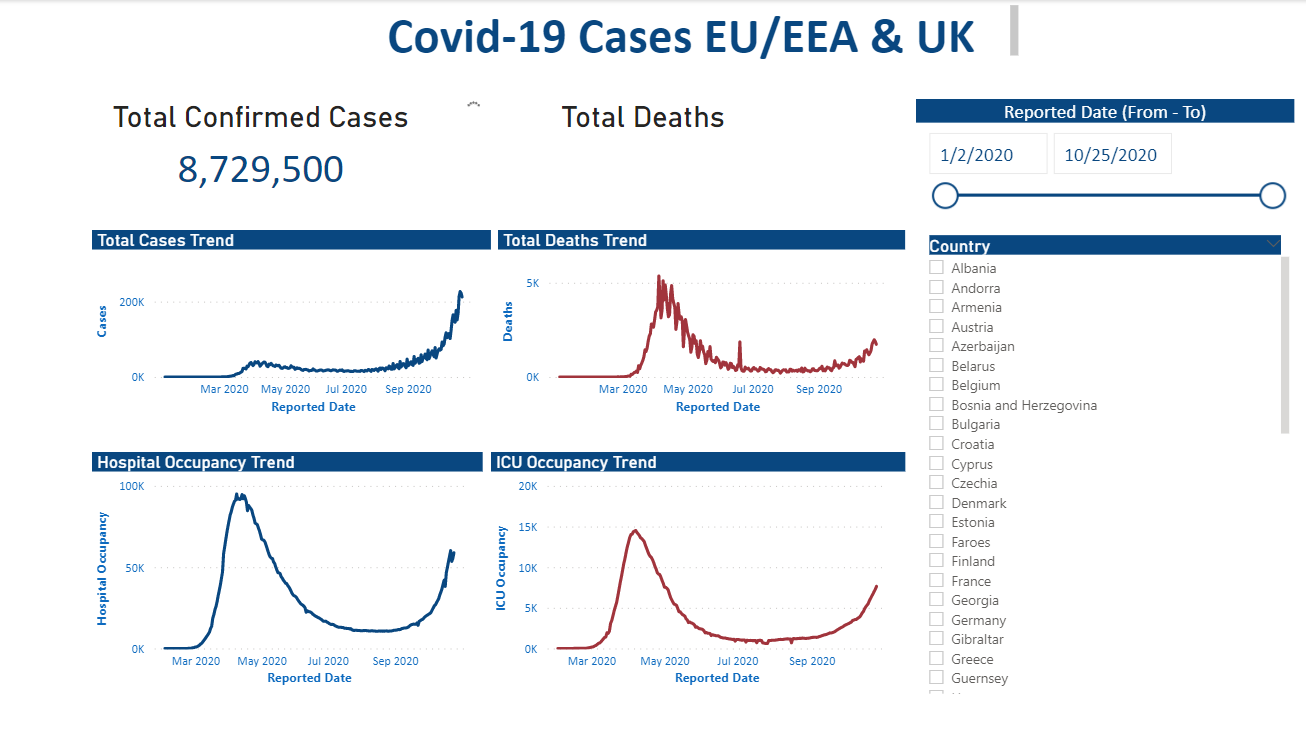

What the dashboard file says about the page in this screenshot:
{"tool":"powerbi","page":{"name":"Trends","canvas":[1280,720],"ordinal":0},"visuals":[{"type":"card","title":"Total Confirmed Cases","fields":{"Values":["Sum(covid_reporting cases_and_deaths.cases_count)"]},"box":[94.4,96,328,96],"z":0},{"type":"card","title":"Total Deaths","fields":{"Values":["Sum(covid_reporting cases_and_deaths.deaths_count)"]},"box":[454.4,96,352,96],"z":1000},{"type":"textbox","box":[376,0,624,64],"z":2000},{"type":"lineChart","title":"Total Cases Trend","fields":{"Category":["covid_reporting cases_and_deaths.reported_date"],"Y":["Sum(covid_reporting cases_and_deaths.cases_count)"]},"box":[94.3,223.7,388.1,183.8],"z":3000},{"type":"lineChart","title":"Total Deaths Trend","fields":{"Category":["covid_reporting cases_and_deaths.reported_date"],"Y":["Sum(covid_reporting cases_and_deaths.deaths_count)"]},"box":[489.2,223.7,395.9,183.8],"z":4000},{"type":"slicer","fields":{"Values":["covid_reporting cases_and_deaths.country"]},"box":[896,224,368,456],"z":5000},{"type":"lineChart","title":"Hospital Occupancy Trend","fields":{"Y":["Sum(covid_reporting hospital_admissions_daily.hospital_occupancy_count)"],"Category":["covid_reporting hospital_admissions_daily.reported_date"]},"box":[94.3,439.6,380.3,232.5],"z":6000},{"type":"lineChart","title":"ICU Occupancy Trend","fields":{"Y":["Sum(covid_reporting hospital_admissions_daily.icu_occupancy_count)"],"Category":["covid_reporting hospital_admissions_daily.reported_date"]},"box":[482.4,439.6,402.7,232.5],"z":7000},{"type":"slicer","title":"Reported Date (From - To)","fields":{"Values":["covid_reporting cases_and_deaths.reported_date"]},"box":[896,96,368,112],"z":8001}]}

Visuals, with their boxes in screenshot pixels (x1, y1, x2, y2), scaled from the page's 1280x720 canvas onto the 1306x740 screenshot:
"Total Confirmed Cases" card: rect(96, 99, 431, 197)
"Total Deaths" card: rect(464, 99, 823, 197)
textbox: rect(384, 0, 1020, 66)
"Total Cases Trend" lineChart: rect(96, 230, 492, 419)
"Total Deaths Trend" lineChart: rect(499, 230, 903, 419)
slicer - covid_reporting cases_and_deaths.country: rect(914, 230, 1290, 699)
"Hospital Occupancy Trend" lineChart: rect(96, 452, 484, 691)
"ICU Occupancy Trend" lineChart: rect(492, 452, 903, 691)
"Reported Date (From - To)" slicer: rect(914, 99, 1290, 214)
